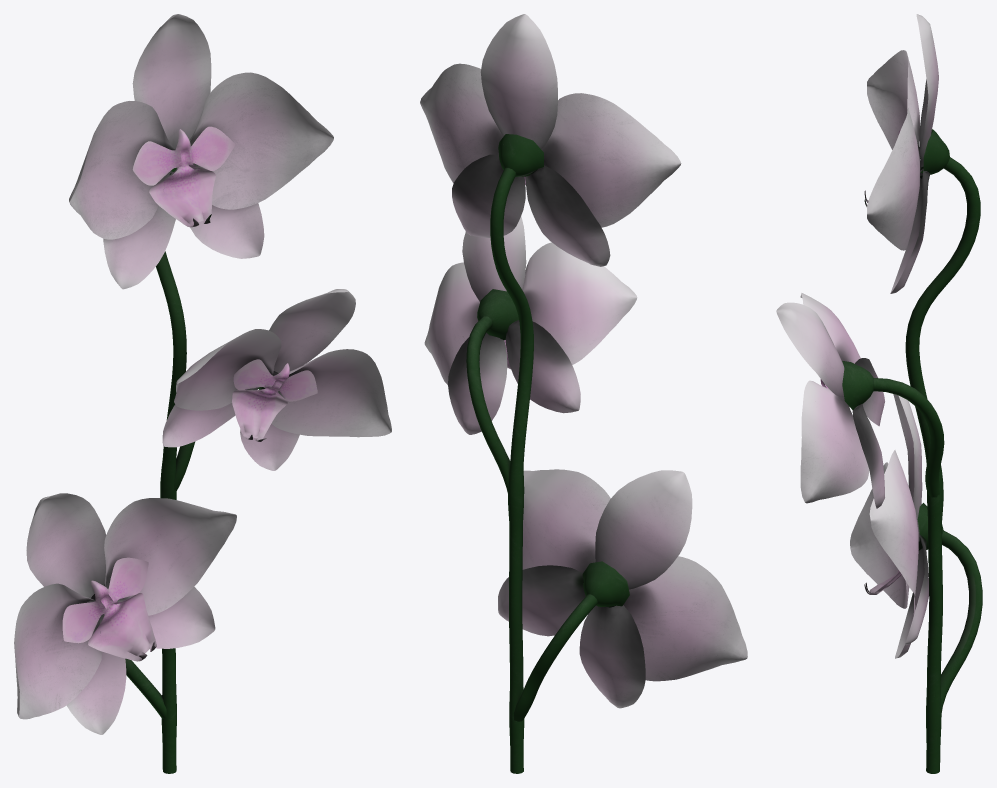
The model's file is Orquidea.fbx.
The picture shows the model from 3 angles, left to right: view 1: azimuth 30°, elevation 25°; view 2: azimuth 150°, elevation 25°; view 3: azimuth 270°, elevation 25°; orthographic projection.
Visible parts, largest first — view 1: Object_2; view 2: Object_2; view 3: Object_2.
Part boxes in pixels (x1=…): Object_2: x1=14, y1=14, x2=391, y2=773; Object_2: x1=420, y1=14, x2=747, y2=773; Object_2: x1=776, y1=14, x2=982, y2=773.
Size of the model in its own units: 490 by 1021 by 252.
1 material, 1 textured.
